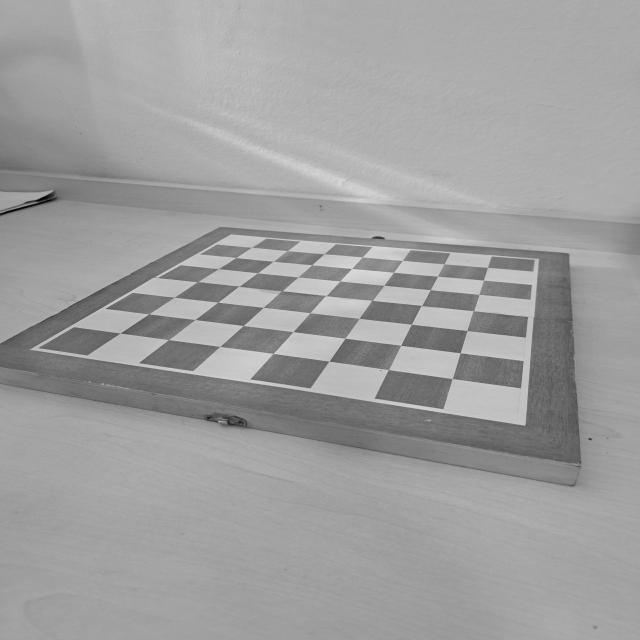chess-table-corners: (501, 410, 534, 436), (24, 338, 54, 358), (224, 230, 238, 240), (526, 256, 540, 266)
